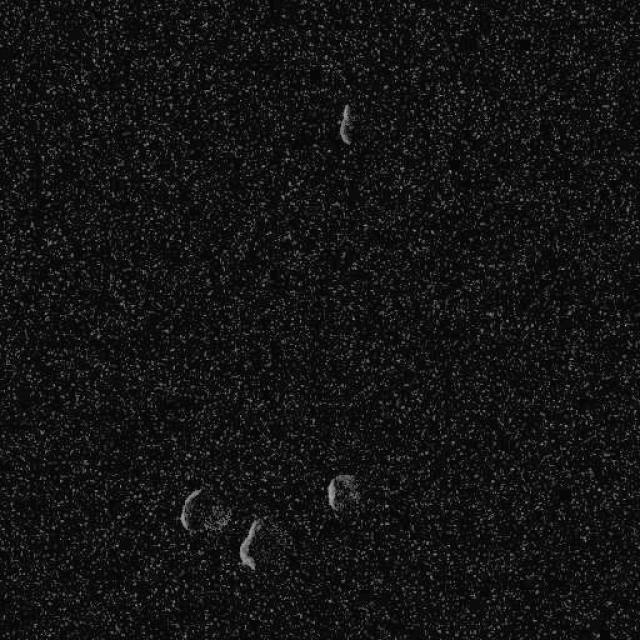D2: (179, 485, 231, 535), (238, 515, 264, 570), (325, 472, 359, 512), (337, 103, 355, 145)
